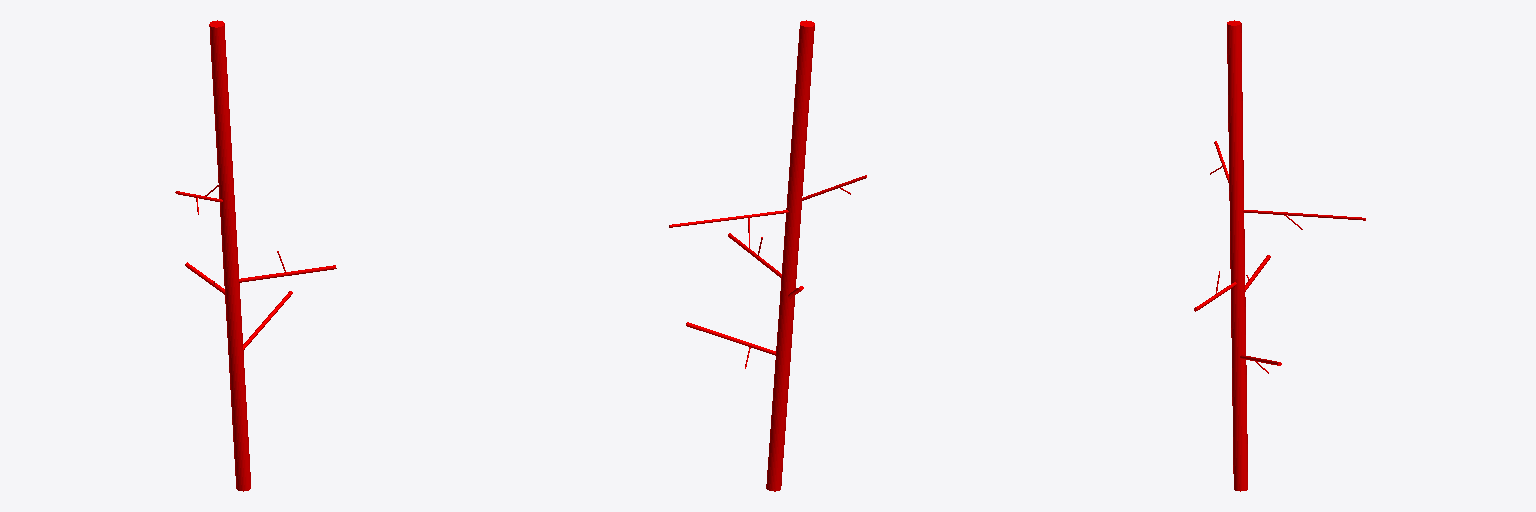
robot.urdf — tree_61.urdf:
<?xml version='1.0' encoding='UTF-8'?>
<robot name="tree_61.urdf">
  <link name="branch_0">
    <inertial>
      <origin xyz="0.0 0.0 0.0" rpy="0.0 -0.0 0.0"/>
      <mass value="0.1"/>
      <inertia ixx="0.001" ixy="0.0" ixz="0.0" iyy="0.001" iyz="0.0" izz="0.001"/>
    </inertial>
    <visual name="branch_0_visual">
      <geometry>
        <cylinder radius="0.09948188289097727" length="6.8108133391003145"/>
      </geometry>
      <material name="semantic_material"/>
      <origin xyz="-0.22826502427378748 -0.046401937916538426 3.3974308710947416" rpy="3.399910528062165e-18 0.06845456136931967 -2.941044304660807"/>
    </visual>
    <collision name="branch_0_collision">
      <geometry>
        <cylinder radius="0.09948188289097727" length="6.8108133391003145"/>
      </geometry>
      <origin xyz="-0.22826502427378748 -0.046401937916538426 3.3974308710947416" rpy="3.399910528062165e-18 0.06845456136931967 -2.941044304660807"/>
    </collision>
  </link>
  <link name="branch_1">
    <inertial>
      <origin xyz="0.0 0.0 0.0" rpy="0.0 -0.0 0.0"/>
      <mass value="0.1"/>
      <inertia ixx="0.001" ixy="0.0" ixz="0.0" iyy="0.001" iyz="0.0" izz="0.001"/>
    </inertial>
    <visual name="branch_1_visual">
      <geometry>
        <cylinder radius="0.029375205735219127" length="0.75460869332171"/>
      </geometry>
      <material name="semantic_material"/>
      <origin xyz="0.0 0.0 0.0" rpy="0.0 -0.0 0.0"/>
    </visual>
    <collision name="branch_1_collision">
      <geometry>
        <cylinder radius="0.029375205735219127" length="0.75460869332171"/>
      </geometry>
      <origin xyz="0.0 0.0 0.0" rpy="0.0 -0.0 0.0"/>
    </collision>
  </link>
  <link name="branch_2">
    <inertial>
      <origin xyz="0.0 0.0 0.0" rpy="0.0 -0.0 0.0"/>
      <mass value="0.1"/>
      <inertia ixx="0.001" ixy="0.0" ixz="0.0" iyy="0.001" iyz="0.0" izz="0.001"/>
    </inertial>
    <visual name="branch_2_visual">
      <geometry>
        <cylinder radius="0.01" length="0.1044296401311871"/>
      </geometry>
      <material name="semantic_material"/>
      <origin xyz="0.0 0.0 0.0" rpy="0.0 -0.0 0.0"/>
    </visual>
    <collision name="branch_2_collision">
      <geometry>
        <cylinder radius="0.01" length="0.1044296401311871"/>
      </geometry>
      <origin xyz="0.0 0.0 0.0" rpy="0.0 -0.0 0.0"/>
    </collision>
  </link>
  <link name="branch_3">
    <inertial>
      <origin xyz="0.0 0.0 0.0" rpy="0.0 -0.0 0.0"/>
      <mass value="0.1"/>
      <inertia ixx="0.001" ixy="0.0" ixz="0.0" iyy="0.001" iyz="0.0" izz="0.001"/>
    </inertial>
    <visual name="branch_3_visual">
      <geometry>
        <cylinder radius="0.020303805589664107" length="1.9782049599314204"/>
      </geometry>
      <material name="semantic_material"/>
      <origin xyz="0.0 0.0 0.0" rpy="0.0 -0.0 0.0"/>
    </visual>
    <collision name="branch_3_collision">
      <geometry>
        <cylinder radius="0.020303805589664107" length="1.9782049599314204"/>
      </geometry>
      <origin xyz="0.0 0.0 0.0" rpy="0.0 -0.0 0.0"/>
    </collision>
  </link>
  <link name="branch_4">
    <inertial>
      <origin xyz="0.0 0.0 0.0" rpy="0.0 -0.0 0.0"/>
      <mass value="0.1"/>
      <inertia ixx="0.001" ixy="0.0" ixz="0.0" iyy="0.001" iyz="0.0" izz="0.001"/>
    </inertial>
    <visual name="branch_4_visual">
      <geometry>
        <cylinder radius="0.01" length="0.43629822388185946"/>
      </geometry>
      <material name="semantic_material"/>
      <origin xyz="0.0 0.0 0.0" rpy="0.0 -0.0 0.0"/>
    </visual>
    <collision name="branch_4_collision">
      <geometry>
        <cylinder radius="0.01" length="0.43629822388185946"/>
      </geometry>
      <origin xyz="0.0 0.0 0.0" rpy="0.0 -0.0 0.0"/>
    </collision>
  </link>
  <link name="branch_5">
    <inertial>
      <origin xyz="0.0 0.0 0.0" rpy="0.0 -0.0 0.0"/>
      <mass value="0.1"/>
      <inertia ixx="0.001" ixy="0.0" ixz="0.0" iyy="0.001" iyz="0.0" izz="0.001"/>
    </inertial>
    <visual name="branch_5_visual">
      <geometry>
        <cylinder radius="0.0274553562444141" length="1.3431314590667451"/>
      </geometry>
      <material name="semantic_material"/>
      <origin xyz="0.0 0.0 0.0" rpy="0.0 -0.0 0.0"/>
    </visual>
    <collision name="branch_5_collision">
      <geometry>
        <cylinder radius="0.0274553562444141" length="1.3431314590667451"/>
      </geometry>
      <origin xyz="0.0 0.0 0.0" rpy="0.0 -0.0 0.0"/>
    </collision>
  </link>
  <link name="branch_6">
    <inertial>
      <origin xyz="0.0 0.0 0.0" rpy="0.0 -0.0 0.0"/>
      <mass value="0.1"/>
      <inertia ixx="0.001" ixy="0.0" ixz="0.0" iyy="0.001" iyz="0.0" izz="0.001"/>
    </inertial>
    <visual name="branch_6_visual">
      <geometry>
        <cylinder radius="0.01" length="0.3304635279036982"/>
      </geometry>
      <material name="semantic_material"/>
      <origin xyz="0.0 0.0 0.0" rpy="0.0 -0.0 0.0"/>
    </visual>
    <collision name="branch_6_collision">
      <geometry>
        <cylinder radius="0.01" length="0.3304635279036982"/>
      </geometry>
      <origin xyz="0.0 0.0 0.0" rpy="0.0 -0.0 0.0"/>
    </collision>
  </link>
  <link name="branch_7">
    <inertial>
      <origin xyz="0.0 0.0 0.0" rpy="0.0 -0.0 0.0"/>
      <mass value="0.1"/>
      <inertia ixx="0.001" ixy="0.0" ixz="0.0" iyy="0.001" iyz="0.0" izz="0.001"/>
    </inertial>
    <visual name="branch_7_visual">
      <geometry>
        <cylinder radius="0.026586591202615806" length="1.3710579956848064"/>
      </geometry>
      <material name="semantic_material"/>
      <origin xyz="0.0 0.0 0.0" rpy="0.0 -0.0 0.0"/>
    </visual>
    <collision name="branch_7_collision">
      <geometry>
        <cylinder radius="0.026586591202615806" length="1.3710579956848064"/>
      </geometry>
      <origin xyz="0.0 0.0 0.0" rpy="0.0 -0.0 0.0"/>
    </collision>
  </link>
  <link name="branch_8">
    <inertial>
      <origin xyz="0.0 0.0 0.0" rpy="0.0 -0.0 0.0"/>
      <mass value="0.1"/>
      <inertia ixx="0.001" ixy="0.0" ixz="0.0" iyy="0.001" iyz="0.0" izz="0.001"/>
    </inertial>
    <visual name="branch_8_visual">
      <geometry>
        <cylinder radius="0.01" length="0.3479410882098355"/>
      </geometry>
      <material name="semantic_material"/>
      <origin xyz="0.0 0.0 0.0" rpy="0.0 -0.0 0.0"/>
    </visual>
    <collision name="branch_8_collision">
      <geometry>
        <cylinder radius="0.01" length="0.3479410882098355"/>
      </geometry>
      <origin xyz="0.0 0.0 0.0" rpy="0.0 -0.0 0.0"/>
    </collision>
  </link>
  <link name="branch_9">
    <inertial>
      <origin xyz="0.0 0.0 0.0" rpy="0.0 -0.0 0.0"/>
      <mass value="0.1"/>
      <inertia ixx="0.001" ixy="0.0" ixz="0.0" iyy="0.001" iyz="0.0" izz="0.001"/>
    </inertial>
    <visual name="branch_9_visual">
      <geometry>
        <cylinder radius="0.02134174693866931" length="1.0781356336047783"/>
      </geometry>
      <material name="semantic_material"/>
      <origin xyz="0.0 0.0 0.0" rpy="0.0 -0.0 0.0"/>
    </visual>
    <collision name="branch_9_collision">
      <geometry>
        <cylinder radius="0.02134174693866931" length="1.0781356336047783"/>
      </geometry>
      <origin xyz="0.0 0.0 0.0" rpy="0.0 -0.0 0.0"/>
    </collision>
  </link>
  <link name="branch_10">
    <inertial>
      <origin xyz="0.0 0.0 0.0" rpy="0.0 -0.0 0.0"/>
      <mass value="0.1"/>
      <inertia ixx="0.001" ixy="0.0" ixz="0.0" iyy="0.001" iyz="0.0" izz="0.001"/>
    </inertial>
    <visual name="branch_10_visual">
      <geometry>
        <cylinder radius="0.01" length="0.2635175301589486"/>
      </geometry>
      <material name="semantic_material"/>
      <origin xyz="0.0 0.0 0.0" rpy="0.0 -0.0 0.0"/>
    </visual>
    <collision name="branch_10_collision">
      <geometry>
        <cylinder radius="0.01" length="0.2635175301589486"/>
      </geometry>
      <origin xyz="0.0 0.0 0.0" rpy="0.0 -0.0 0.0"/>
    </collision>
  </link>
  <joint name="joint_0_1" type="fixed">
    <parent link="branch_0"/>
    <child link="branch_1"/>
    <axis xyz="1. 0. 0."/>
    <origin xyz="-0.41625142358203115 0.17562336720090732 2.994940907641231" rpy="-0.10230490105382593 0.9762583466809384 2.2678772009805566"/>
  </joint>
  <joint name="joint_0_3" type="fixed">
    <parent link="branch_0"/>
    <child link="branch_3"/>
    <axis xyz="1. 0. 0."/>
    <origin xyz="0.16391648601674522 0.8211144123019343 4.198789052992653" rpy="-0.3653157492394538 1.420056175458221 0.7394558231377153"/>
  </joint>
  <joint name="joint_0_5" type="fixed">
    <parent link="branch_0"/>
    <child link="branch_5"/>
    <axis xyz="1. 0. 0."/>
    <origin xyz="0.44442398913429615 0.25096033983813254 2.143502353426468" rpy="-0.052809643610373595 1.251780302567481 0.39430603200267333"/>
  </joint>
  <joint name="joint_0_7" type="fixed">
    <parent link="branch_0"/>
    <child link="branch_7"/>
    <axis xyz="1. 0. 0."/>
    <origin xyz="0.41376549512617816 -0.33041269793675365 3.0974316020038333" rpy="0.3423823936728997 1.4495621879996647 -0.0937914691611459"/>
  </joint>
  <joint name="joint_0_9" type="fixed">
    <parent link="branch_0"/>
    <child link="branch_9"/>
    <axis xyz="1. 0. 0."/>
    <origin xyz="-0.7441373713355013 -0.2017157379121794 4.420672021903332" rpy="0.016553660497292646 1.1189308378586458 -2.820533346384819"/>
  </joint>
  <joint name="joint_1_2" type="fixed">
    <parent link="branch_0"/>
    <child link="branch_2"/>
    <axis xyz="1. 0. 0."/>
    <origin xyz="-0.38185331715296833 0.10180557545834633 2.983866218673077" rpy="0.6104408873429957 0.16829124571359988 -1.1113697177291595"/>
  </joint>
  <joint name="joint_3_4" type="fixed">
    <parent link="branch_0"/>
    <child link="branch_4"/>
    <axis xyz="1. 0. 0."/>
    <origin xyz="-0.0369884023734744 0.7086243048528378 4.004514945029397" rpy="2.4349328242917103 0.3485744908653082 -2.2073925936284198"/>
  </joint>
  <joint name="joint_5_6" type="fixed">
    <parent link="branch_0"/>
    <child link="branch_6"/>
    <axis xyz="1. 0. 0."/>
    <origin xyz="0.235467824392881 0.27185907016641664 1.9550130549582605" rpy="2.4280785057630343 0.2610662525633108 -2.6389681380442442"/>
  </joint>
  <joint name="joint_7_8" type="fixed">
    <parent link="branch_0"/>
    <child link="branch_8"/>
    <axis xyz="1. 0. 0."/>
    <origin xyz="0.391870318558888 -0.3165735342975297 3.265695824862864" rpy="0.019923750710409572 0.3247141218864231 2.7072741657500576"/>
  </joint>
  <joint name="joint_9_10" type="fixed">
    <parent link="branch_0"/>
    <child link="branch_10"/>
    <axis xyz="1. 0. 0."/>
    <origin xyz="-0.8818143237083697 -0.3268214028241247 4.3880157858383395" rpy="2.4226278018594263 0.5969330320493197 0.16611587737752317"/>
  </joint>
  <material name="semantic_material">
    <color rgba="1. 0. 0. 1."/>
  </material>
</robot>

--- What the picture shows (computed from the rendered views, not written in the file) ---
3 views of the same robot in one strip: view 1: azimuth 30°, elevation 25°; view 2: azimuth 150°, elevation 25°; view 3: azimuth 270°, elevation 25° (orthographic).
Model tree_61.urdf with 11 links and 10 joints (10 fixed), rooted at branch_0, posed all joints at 0.
Links seen in each view (by area): view 1: branch_0; view 2: branch_0; view 3: branch_0.
Boxes of the visible links, x1=… form: branch_0: x1=209, y1=20, x2=250, y2=491; branch_0: x1=766, y1=20, x2=814, y2=491; branch_0: x1=1227, y1=20, x2=1247, y2=491.
Size in the robot's own frame: 2.26 by 2.35 by 6.81 metres.
Geometry: primitives only (box / cylinder / sphere), no mesh files.
